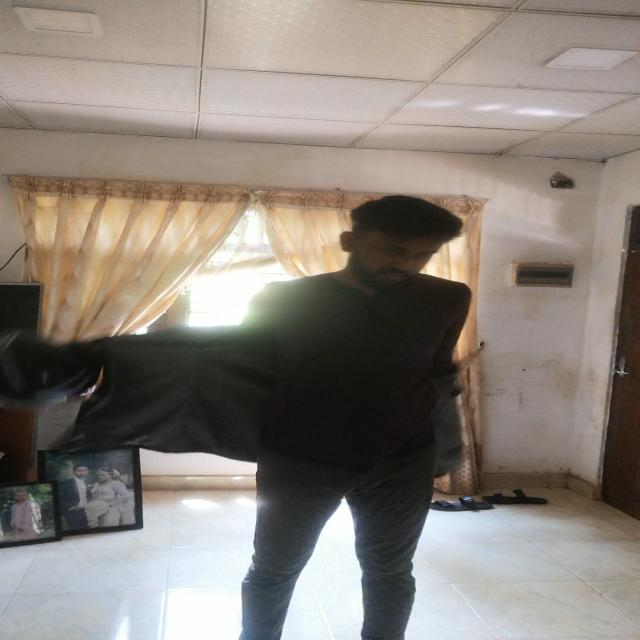Person: (213, 195, 500, 640)
